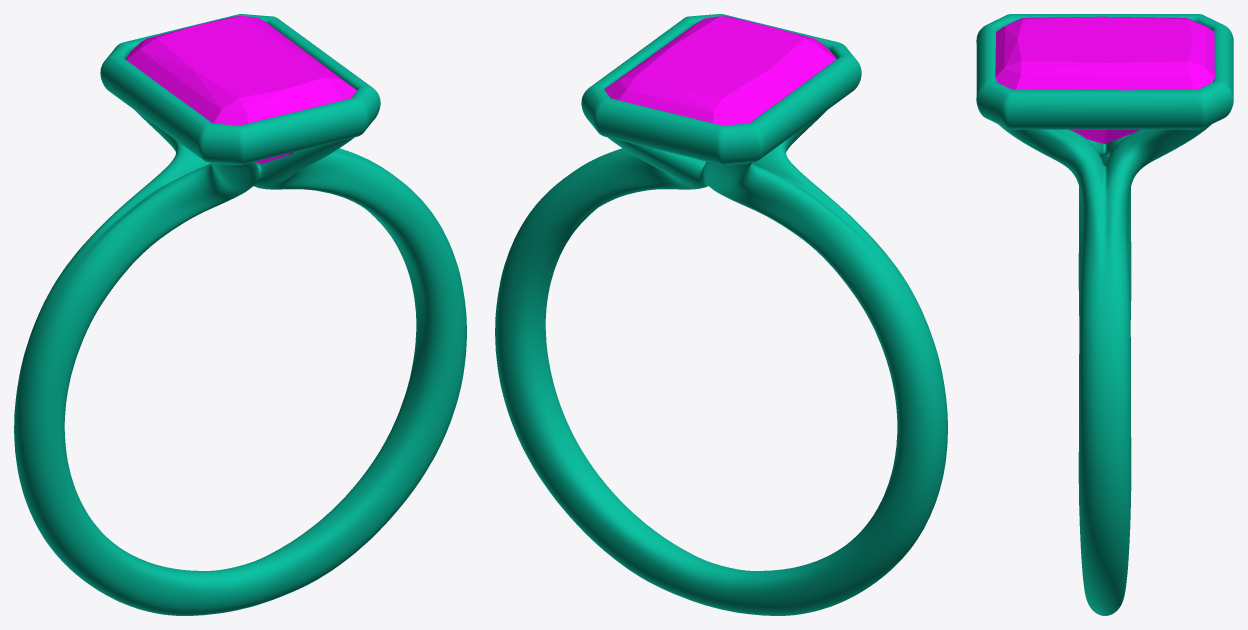
The model's file is BE1543_RA_200ct_RENDER.glb.
3 renders of one model, left to right at view 1: azimuth 30°, elevation 25°; view 2: azimuth 150°, elevation 25°; view 3: azimuth 270°, elevation 25°, orthographic.
Visible parts, largest first — view 1: Metal 01, CS_Diamond_Radiant; view 2: Metal 01, CS_Diamond_Radiant; view 3: Metal 01, CS_Diamond_Radiant.
Boxes of the visible parts, x1,y1,x2,y2 form: Metal 01: (14,14,466,615); CS_Diamond_Radiant: (125,16,356,163); Metal 01: (495,14,947,615); CS_Diamond_Radiant: (604,16,836,125); Metal 01: (976,14,1233,615); CS_Diamond_Radiant: (995,16,1214,143).
Size of the model in its own units: 21.26 by 25.14 by 10.65.
